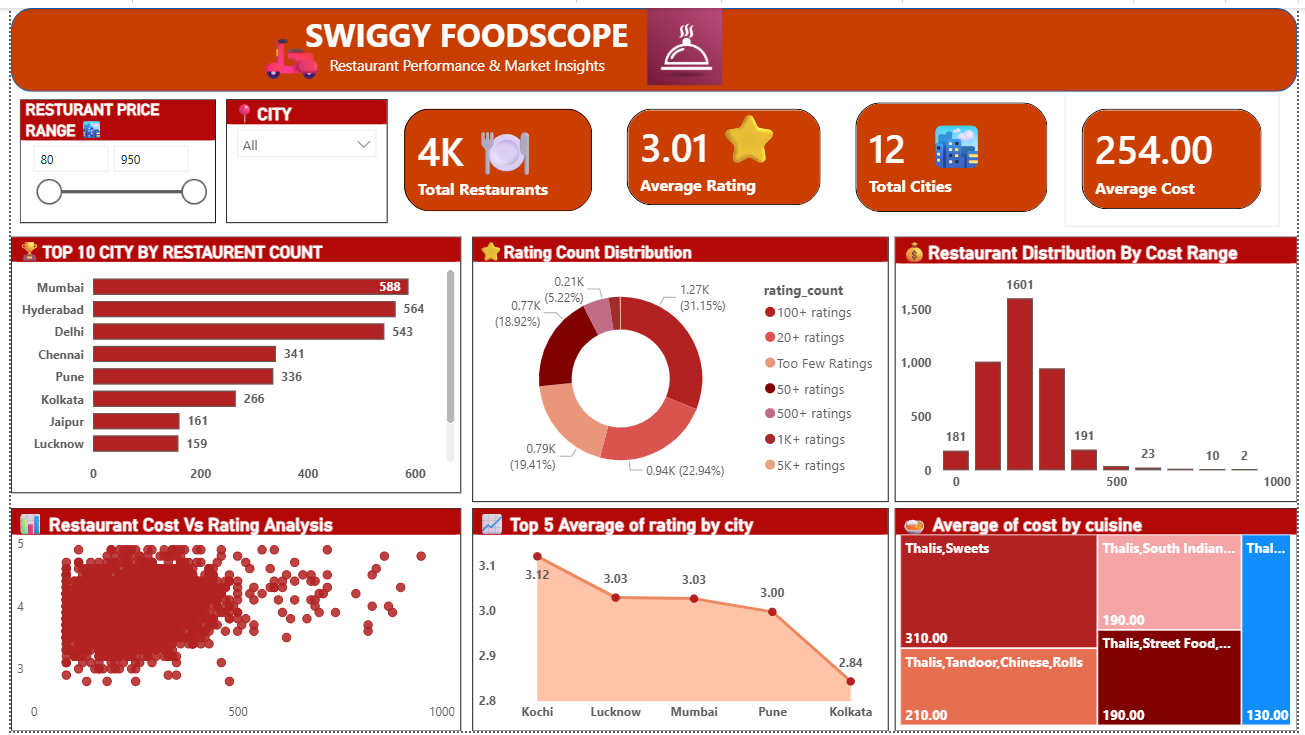

The dashboard page shown, as its layout file describes it:
{"tool":"powerbi","page":{"name":"Page 1","canvas":[1280,720],"ordinal":0},"visuals":[{"type":"cardVisual","fields":{"Data":["dax queries.Total Restaurants"]},"box":[374.4,83.3,221.4,136.8],"z":0},{"type":"cardVisual","fields":{"Data":["dax queries.Total_cities"]},"box":[823.5,77.1,225.2,143.1],"z":1000},{"type":"cardVisual","fields":{"Data":["dax queries.AVG_RATING"]},"box":[595.9,83.3,227.6,130.6],"z":2000},{"type":"cardVisual","fields":{"Data":["dax queries.AVG COST"]},"box":[1048.7,83.3,214,134.3],"z":3000},{"type":"barChart","title":"🏆TOP 10 CITY BY RESTAURENT COUNT","fields":{"Category":["swiggy resturent raw data.city"],"Y":["Count(swiggy resturent raw data.id)"]},"box":[0,227.6,447.8,255],"z":4000},{"type":"areaChart","title":"📈 Top 5 Average of rating by city","fields":{"Category":["swiggy resturent raw data.city"],"Y":["Avg(swiggy resturent raw data.rating)"]},"box":[459,497.6,414.2,222.7],"z":5000},{"type":"clusteredColumnChart","title":"💰Restaurant Distribution By Cost Range","fields":{"Category":["swiggy resturent raw data.cost (bins)"],"Y":["CountNonNull(swiggy resturent raw data.id)"]},"box":[879.5,227.6,400.6,263.7],"z":6000},{"type":"scatterChart","title":"📊 Restaurant Cost Vs Rating Analysis","fields":{"Category":["swiggy resturent raw data.id"],"X":["Avg(swiggy resturent raw data.cost)"],"Y":["Avg(swiggy resturent raw data.rating)"]},"box":[0,497.6,447.8,222.7],"z":7000},{"type":"donutChart","title":"⭐Rating Count Distribution","fields":{"Category":["swiggy resturent raw data.rating_count"],"Y":["CountNonNull(swiggy resturent raw data.id)"]},"box":[459,227.6,414.2,263.7],"z":8000},{"type":"treemap","title":"🍛   Average of cost by cuisine","fields":{"Group":["swiggy resturent raw data.cuisine"],"Values":["Avg(swiggy resturent raw data.cost)"]},"box":[879.5,497.6,400.6,222.7],"z":9000},{"type":"slicer","title":"📍CITY","fields":{"Values":["swiggy resturent raw data.city"]},"box":[214,90.8,160.5,123.2],"z":10000},{"type":"shape","box":[0,0,1280,83.3],"z":11000},{"type":"textbox","box":[0,0,906.8,52.2],"z":12000},{"type":"textbox","box":[250,42.3,408,41.1],"z":13000},{"type":"slicer","title":"RESTURANT PRICE RANGE 🏙️","fields":{"Values":["swiggy resturent raw data.cost"]},"box":[8.7,90.8,195.3,123.2],"z":13001},{"type":"textbox","box":[237.6,0,109.5,83.3],"z":13002},{"type":"textbox","box":[454,102,77.1,90.8],"z":13003},{"type":"textbox","box":[696.6,90.8,95.8,93.3],"z":13004},{"type":"textbox","box":[906.8,102,108.2,69.7],"z":13005},{"type":"image","box":[420.5,0,500.1,77.1],"z":13006}]}

Visuals, with their boxes in screenshot pixels (x1, y1, x2, y2), scaled from the page's 1280x720 canvas onto the 1305x735 screenshot:
cardVisual - dax queries.Total Restaurants: (x1=382, y1=85, x2=607, y2=225)
cardVisual - dax queries.Total_cities: (x1=840, y1=79, x2=1069, y2=225)
cardVisual - dax queries.AVG_RATING: (x1=608, y1=85, x2=840, y2=218)
cardVisual - dax queries.AVG COST: (x1=1069, y1=85, x2=1287, y2=222)
"🏆TOP 10 CITY BY RESTAURENT COUNT" barChart: (x1=0, y1=232, x2=457, y2=493)
"📈 Top 5 Average of rating by city" areaChart: (x1=468, y1=508, x2=890, y2=734)
"💰Restaurant Distribution By Cost Range" clusteredColumnChart: (x1=897, y1=232, x2=1304, y2=502)
"📊 Restaurant Cost Vs Rating Analysis" scatterChart: (x1=0, y1=508, x2=457, y2=734)
"⭐Rating Count Distribution" donutChart: (x1=468, y1=232, x2=890, y2=502)
"🍛   Average of cost by cuisine" treemap: (x1=897, y1=508, x2=1304, y2=734)
"📍CITY" slicer: (x1=218, y1=93, x2=382, y2=218)
shape: (x1=0, y1=0, x2=1304, y2=85)
textbox: (x1=0, y1=0, x2=925, y2=53)
textbox: (x1=255, y1=43, x2=671, y2=85)
"RESTURANT PRICE RANGE 🏙️" slicer: (x1=9, y1=93, x2=208, y2=218)
textbox: (x1=242, y1=0, x2=354, y2=85)
textbox: (x1=463, y1=104, x2=541, y2=197)
textbox: (x1=710, y1=93, x2=808, y2=188)
textbox: (x1=925, y1=104, x2=1035, y2=175)
image: (x1=429, y1=0, x2=939, y2=79)
